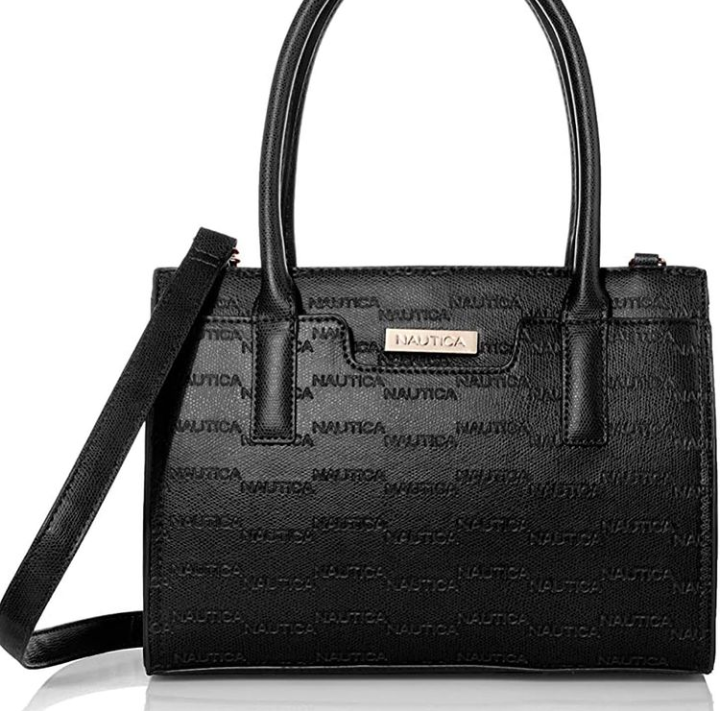cartera: (120, 10, 720, 682)
cuero: (317, 477, 548, 581)
